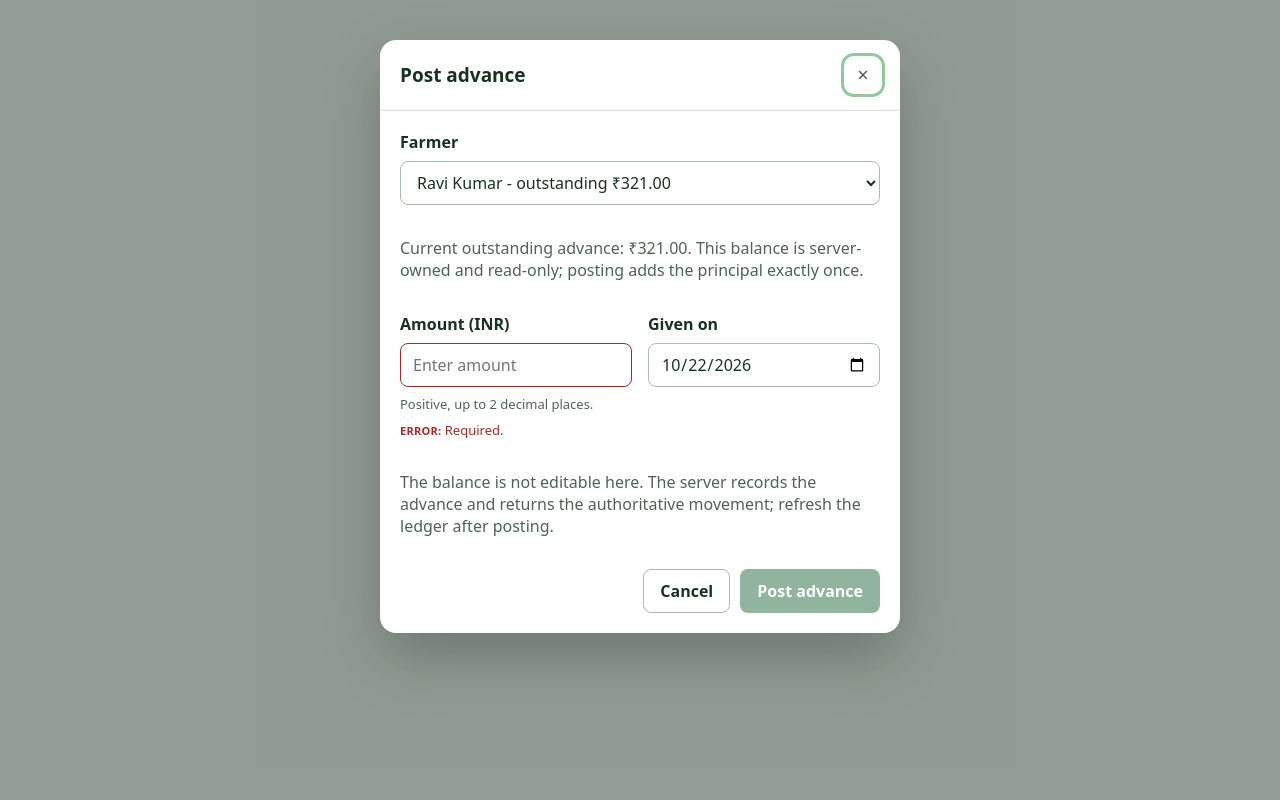
Test: AdvanceForm › preserves the amount and farmer after a failed advance
The width and height of the screenshot is (1280, 800).
Type "500.00" into the field labelled "Amount (INR)". click: (516, 365)
box: left=400, top=343, right=632, bottom=387
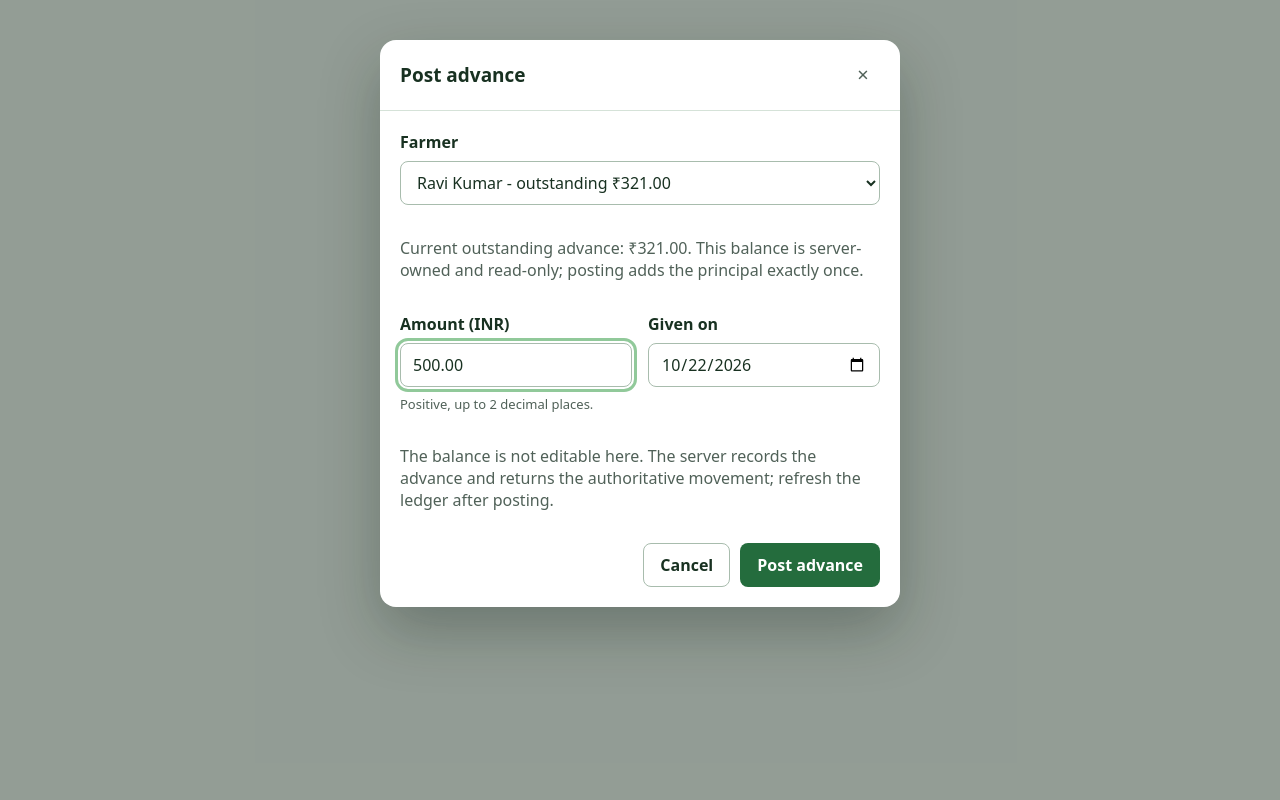
Click the button "Post advance". click: (810, 565)
box: left=740, top=543, right=880, bottom=587
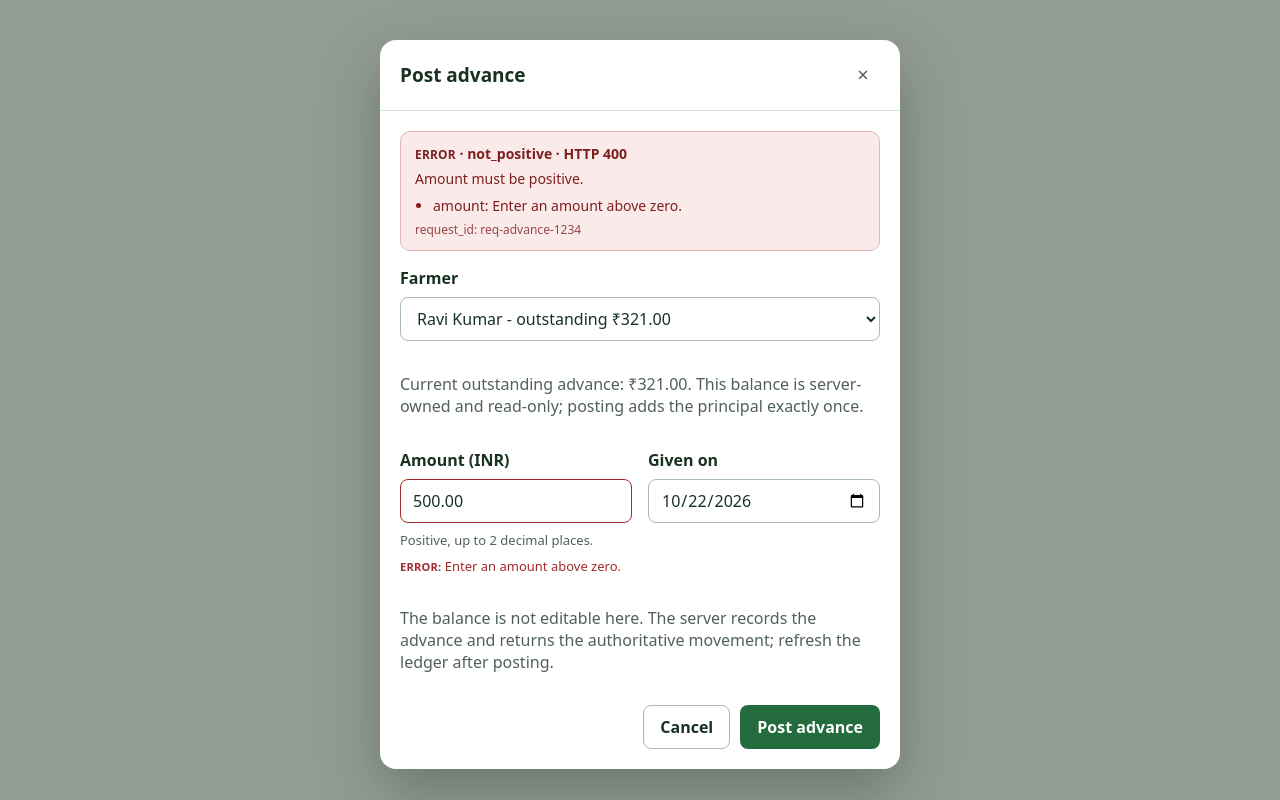
Expected: the dropdown labelled "Farmer" shows "Ravi Kumar - outstanding ₹321.00", left=400, top=297, right=880, bottom=341
Expected: the text "request_id: req-advance-1234" is shown, left=415, top=221, right=581, bottom=238
